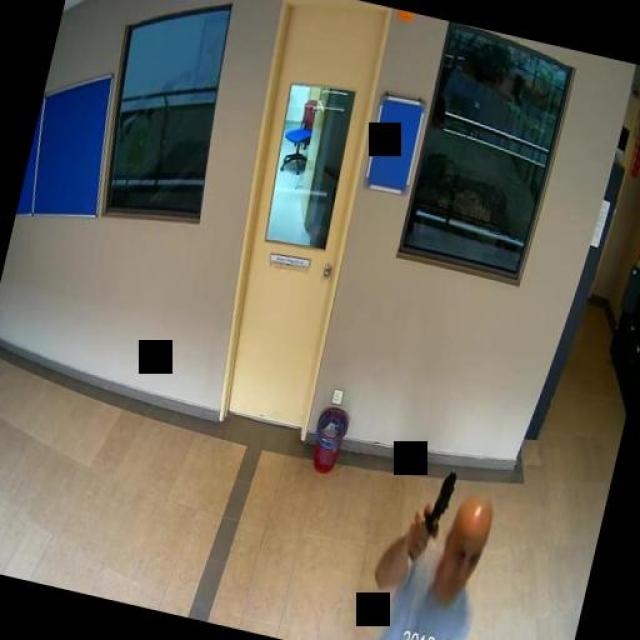gun: (413, 463, 458, 542)
